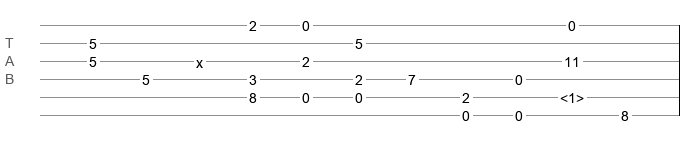0: (302, 90, 310, 100), (302, 18, 310, 28), (355, 90, 363, 100), (462, 108, 470, 118), (515, 108, 523, 118), (515, 72, 523, 82), (568, 18, 576, 28)
11: (564, 54, 580, 64)
2: (249, 18, 257, 28), (302, 54, 310, 64), (355, 72, 363, 82), (462, 90, 470, 100)
3: (249, 72, 257, 82)
5: (89, 36, 97, 46), (89, 54, 97, 64), (142, 72, 150, 82), (355, 36, 363, 46)
7: (408, 72, 416, 82)
8: (249, 90, 257, 100), (621, 108, 629, 118)
harmonic: (560, 90, 584, 100)
x: (196, 55, 203, 63)
